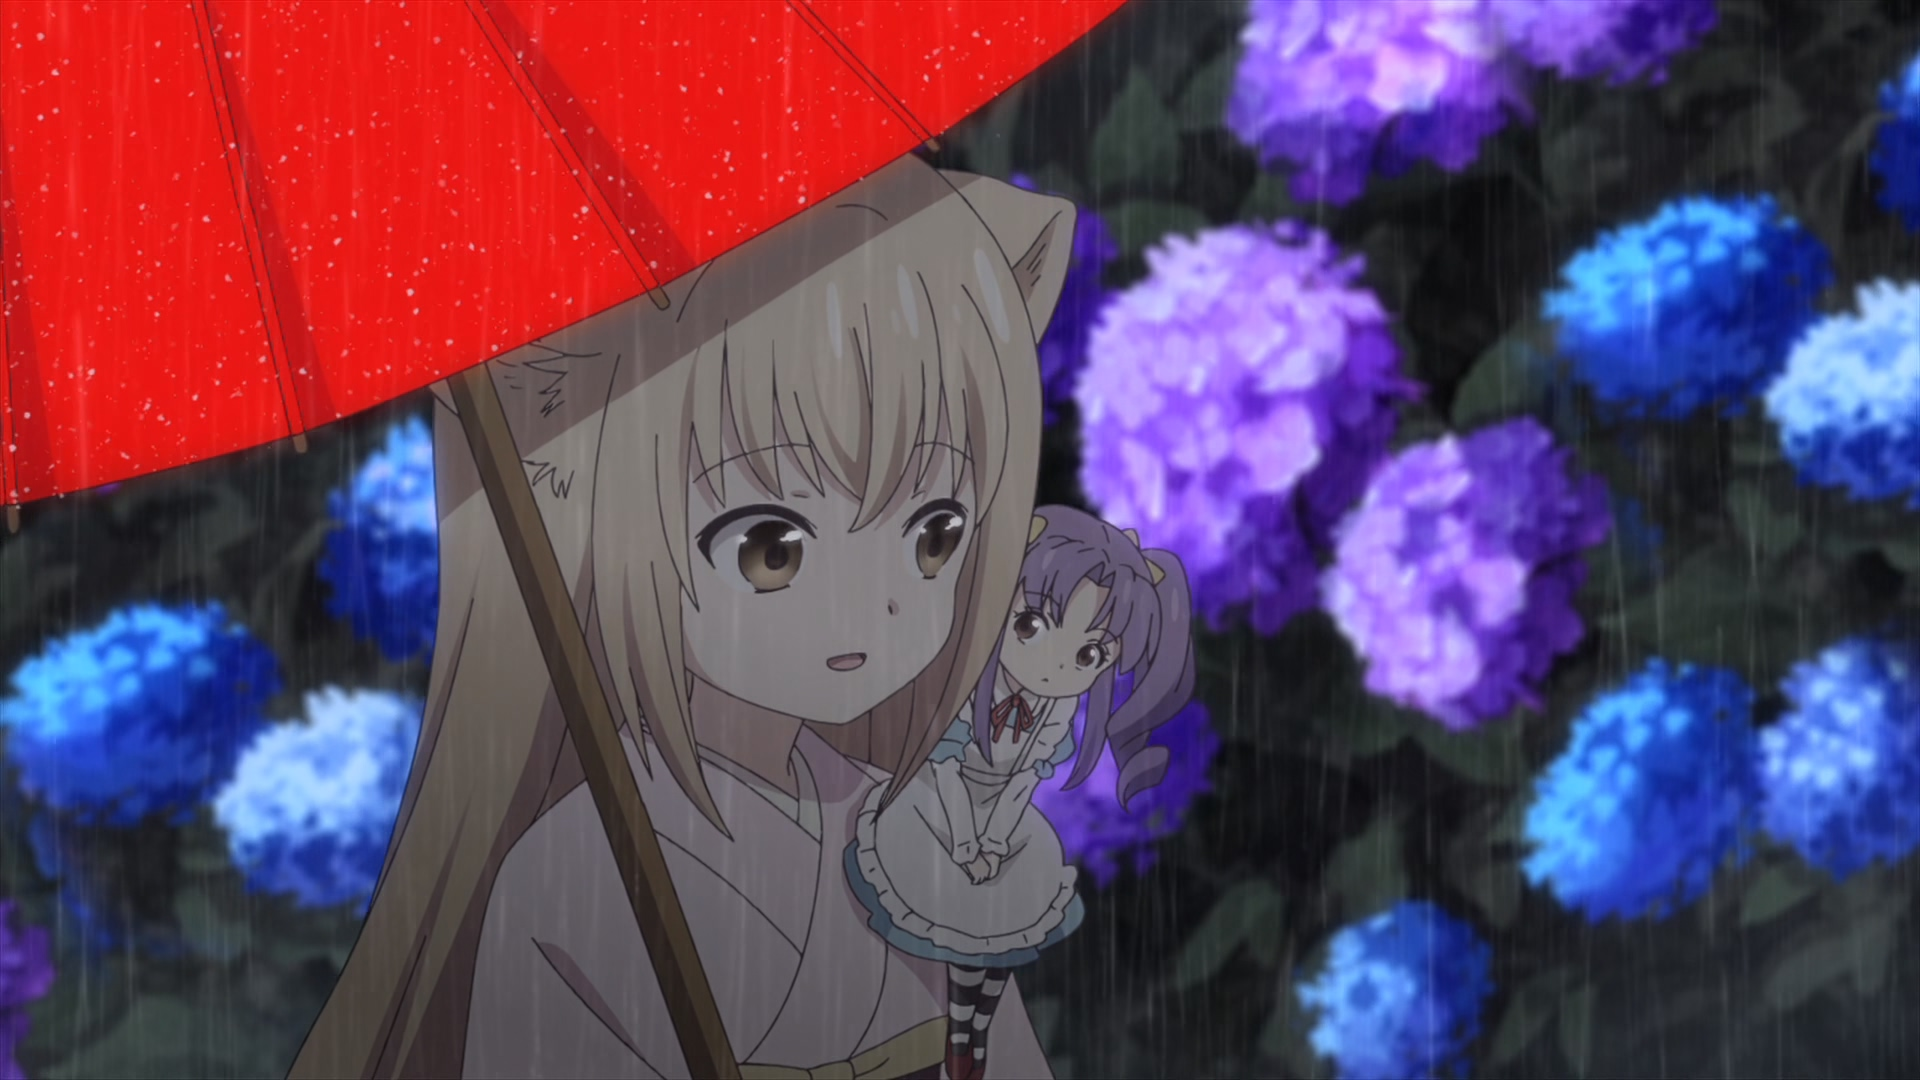柚: (290, 153, 1073, 1080)
阿菊: (843, 504, 1195, 1080)
